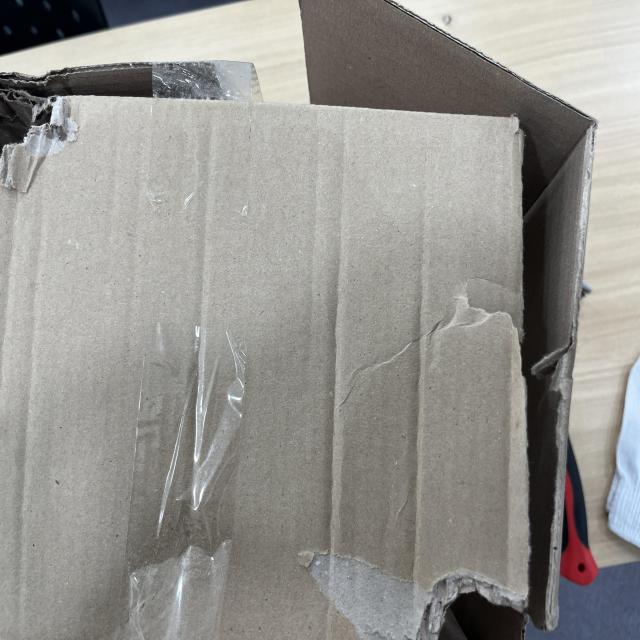damaged: (0, 578, 252, 640)
